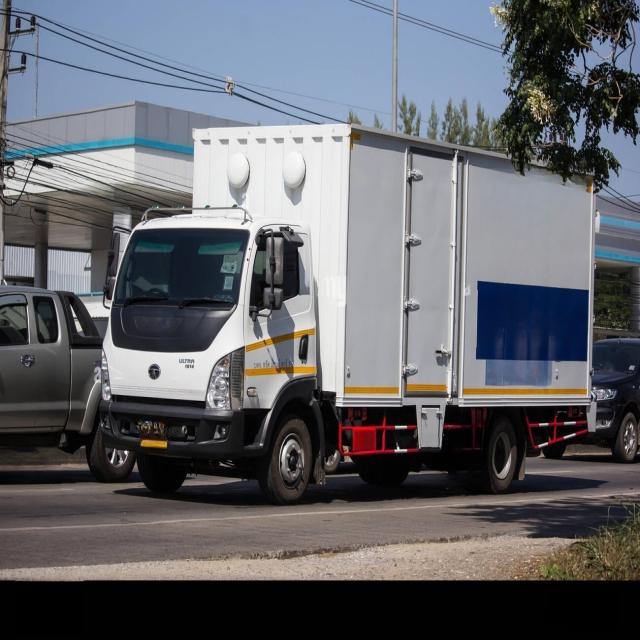truck: (100, 124, 595, 503)
